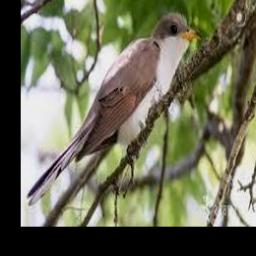Cuckoo: (27, 14, 204, 206)
